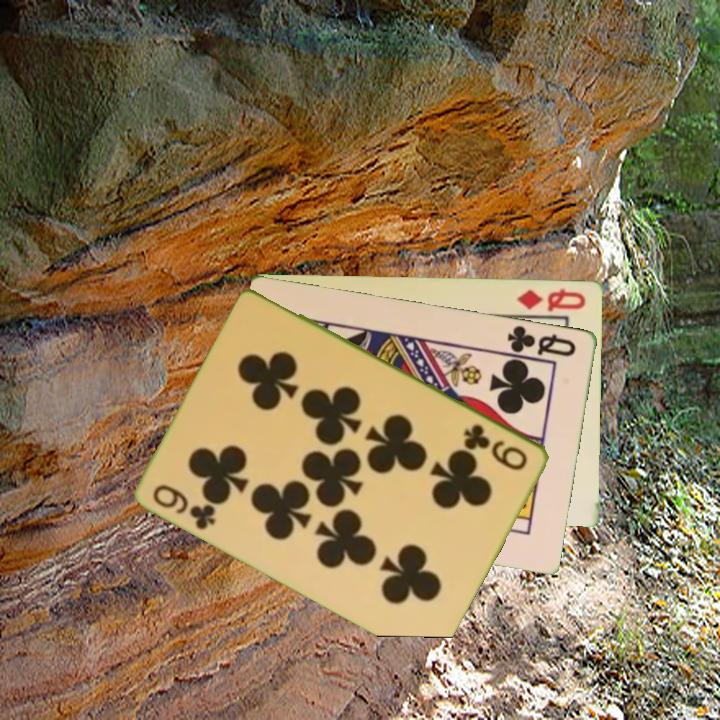9c: (461, 420, 532, 473), (149, 480, 219, 533)
Qc: (504, 321, 580, 360)
Qd: (514, 285, 589, 314)
